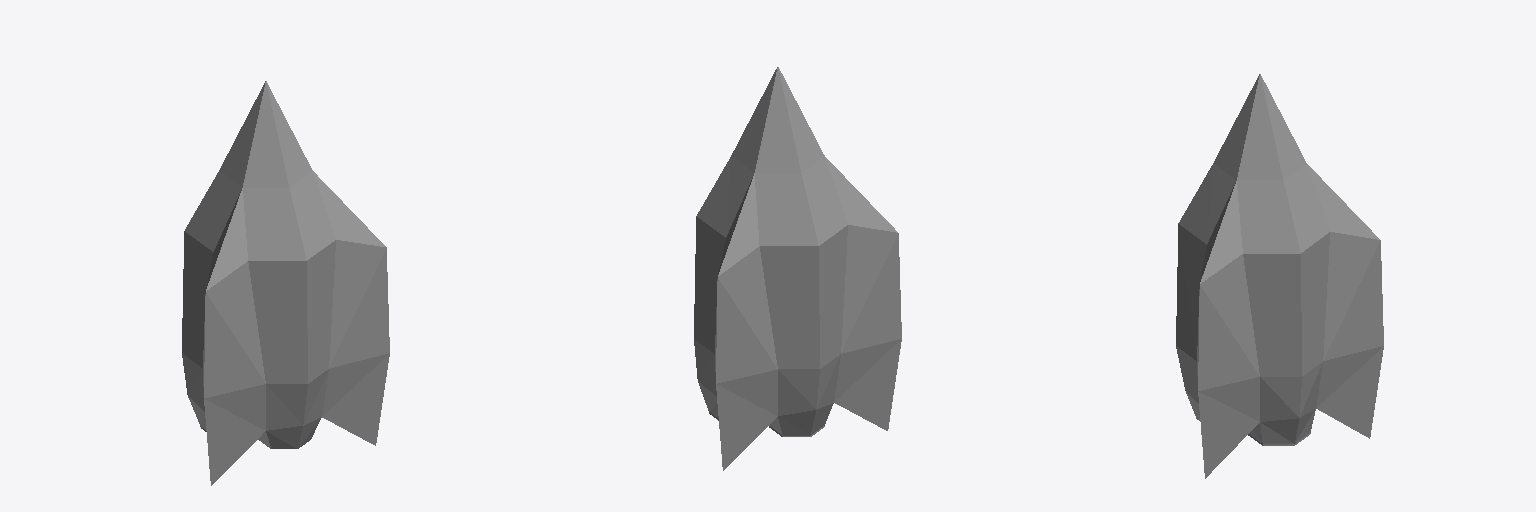
Rendered from rocket.obj.
3 renders of one model, left to right at view 1: azimuth 30°, elevation 25°; view 2: azimuth 150°, elevation 25°; view 3: azimuth 270°, elevation 25°, orthographic.
Parts seen in each view (by area): view 1: rocket_Cylinder.001; view 2: rocket_Cylinder.001; view 3: rocket_Cylinder.001.
Boxes of the visible parts, x1=… form: rocket_Cylinder.001: x1=182, y1=81, x2=389, y2=485; rocket_Cylinder.001: x1=694, y1=67, x2=901, y2=470; rocket_Cylinder.001: x1=1176, y1=74, x2=1383, y2=478.
Bounding box in the file's own units: 2.29 × 4.31 × 2.22.